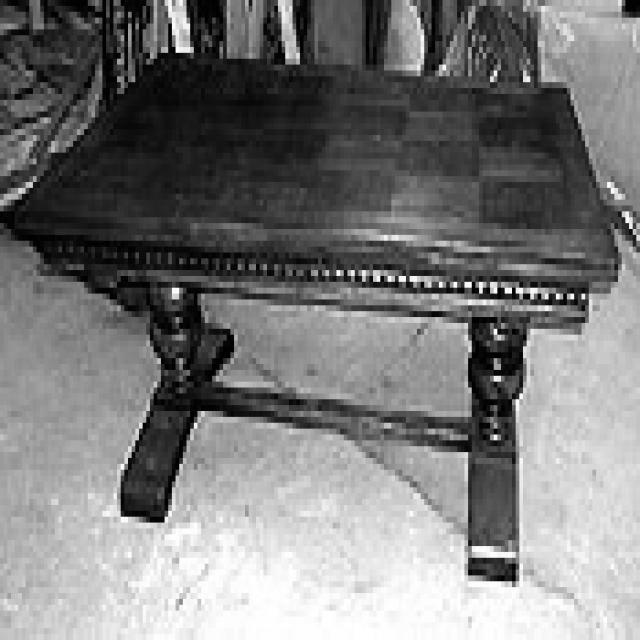table: (11, 56, 619, 578)
